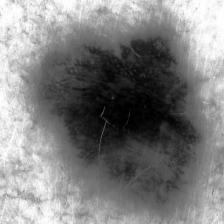Benign Marking or Mole: (38, 30, 204, 212)
